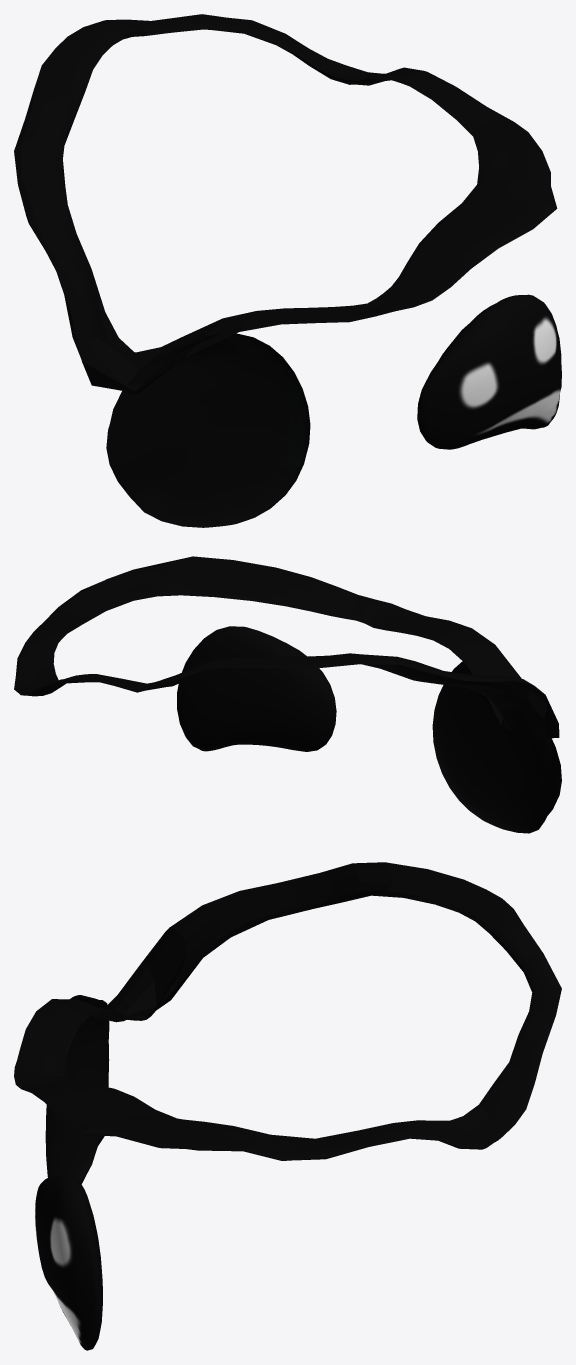
Rendered from Eyepatch.glb.
3 renders of one model, top to bottom at view 1: azimuth 30°, elevation 25°; view 2: azimuth 150°, elevation 25°; view 3: azimuth 270°, elevation 25°, orthographic. The views are drawn at different scales.
Parts seen in each view (by area): view 1: Sphere.011; view 2: Sphere.011; view 3: Sphere.011.
Part boxes in pixels (box(x1,y1,x2,y2)): Sphere.011: box(14, 14, 561, 527); Sphere.011: box(14, 556, 561, 833); Sphere.011: box(14, 862, 561, 1350).
Size of the model in its own units: 0.4307 by 0.263 by 0.3964.
3 materials, 3 textured.
